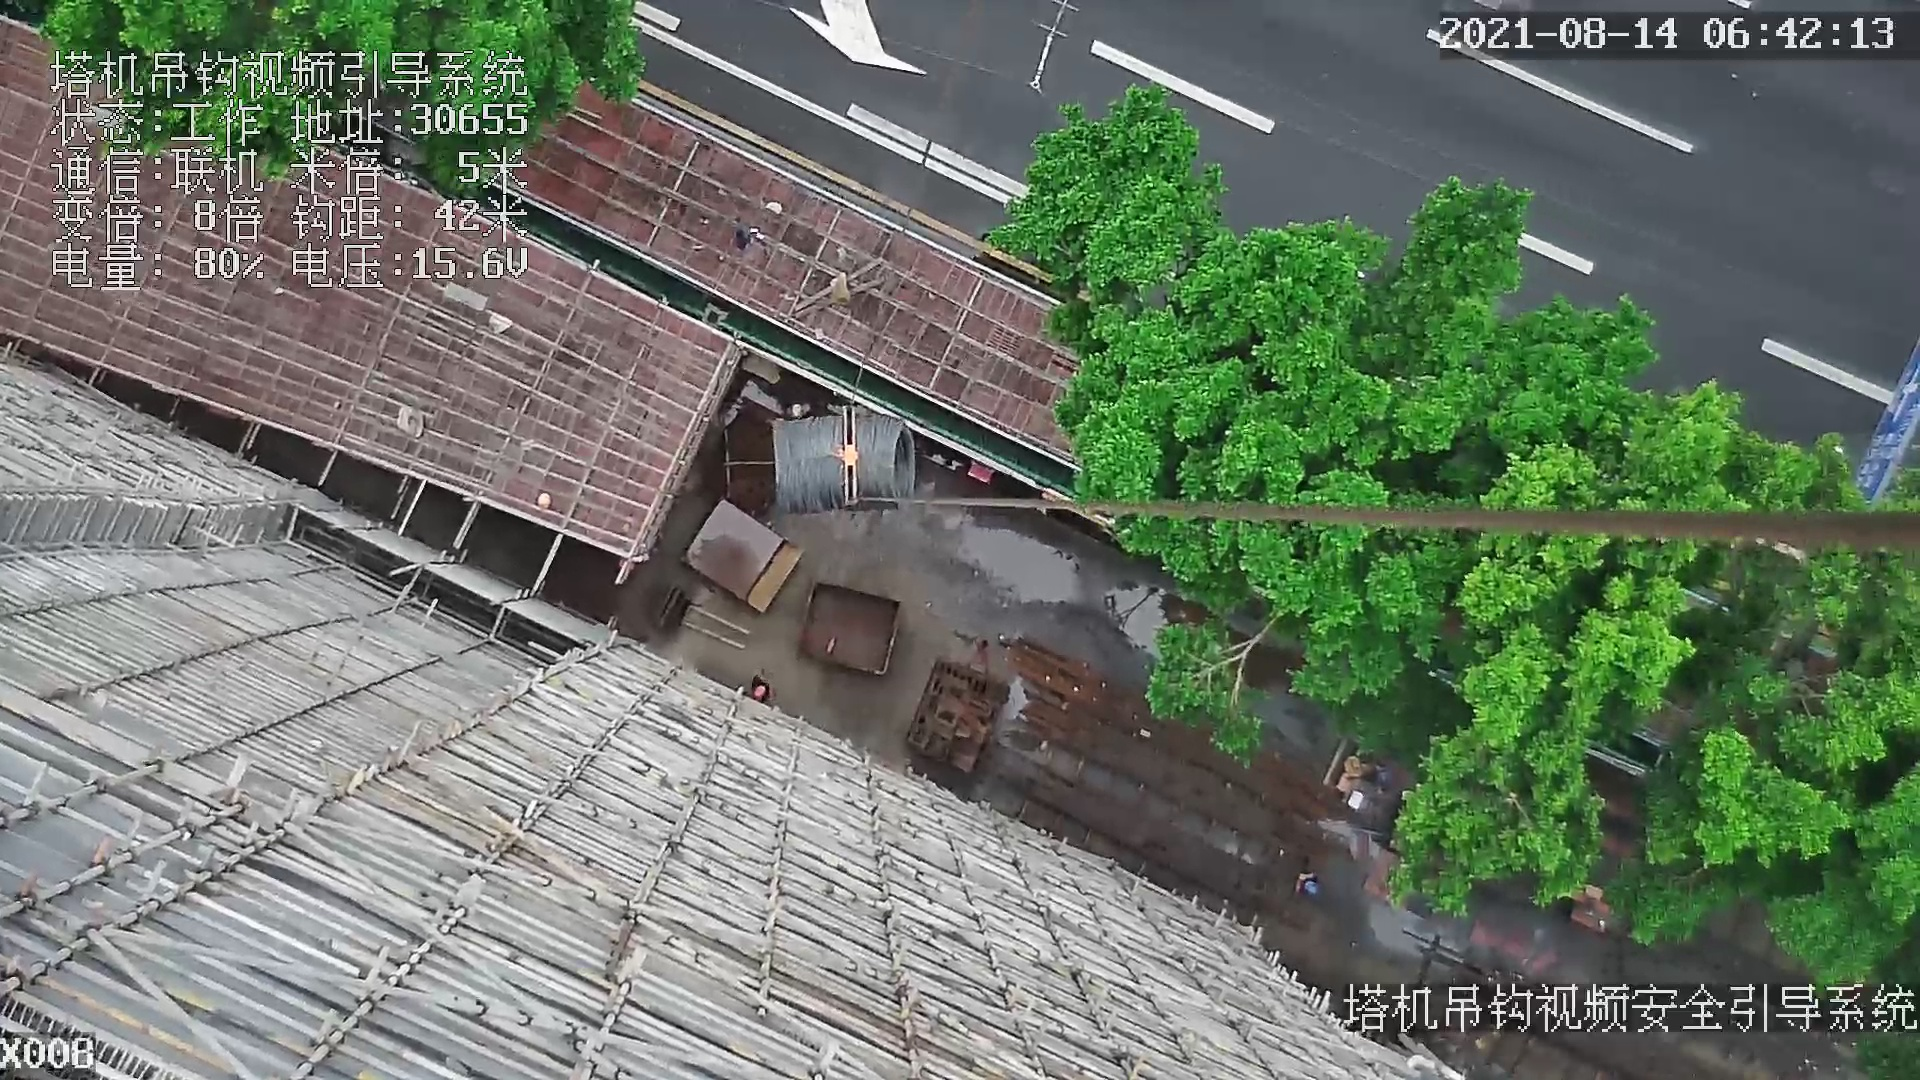hook: (822, 401, 862, 508)
person: (1293, 865, 1326, 901), (749, 672, 775, 702)
